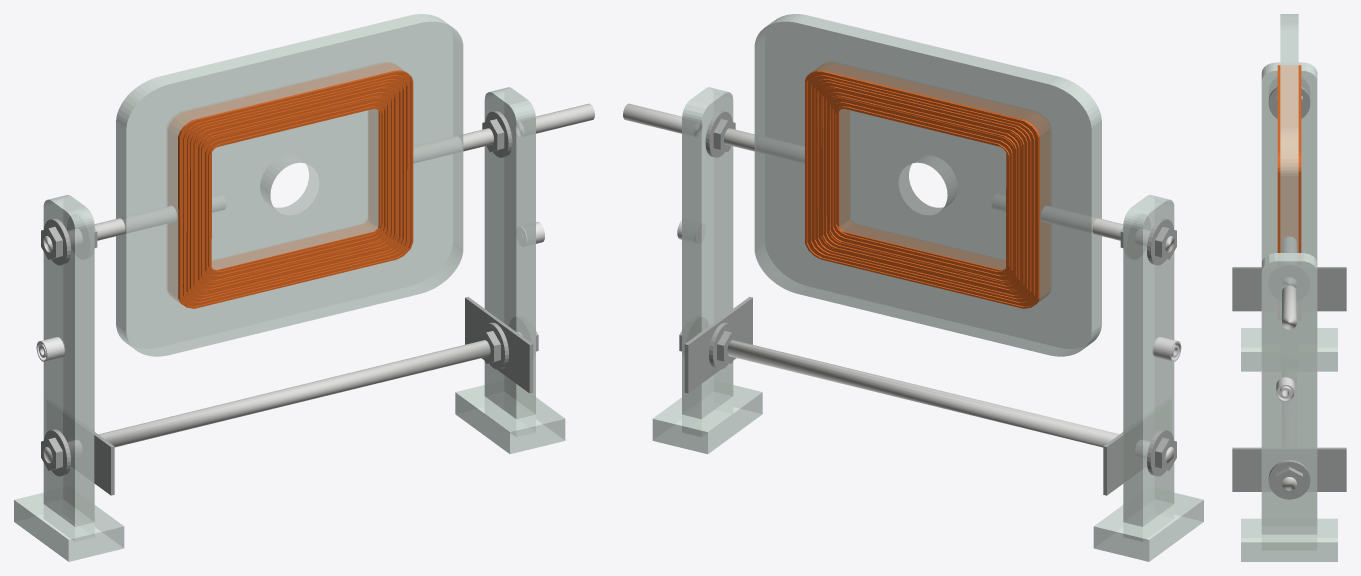
File: coil.glb
3 renders of one model, left to right at view 1: azimuth 30°, elevation 25°; view 2: azimuth 150°, elevation 25°; view 3: azimuth 270°, elevation 25°, orthographic. The views are drawn at different scales.
Parts seen in each view (by area): view 1: frame.017, stand, axis, handle; view 2: frame.017, stand, axis, handle; view 3: stand, frame.017, handle, axis.
Boxes of the visible parts, bbox=[...] form: frame.017: bbox=[116, 14, 463, 356]; stand: bbox=[14, 87, 565, 561]; axis: bbox=[43, 128, 493, 252]; handle: bbox=[515, 103, 594, 136]; frame.017: bbox=[754, 14, 1101, 356]; stand: bbox=[652, 87, 1203, 561]; axis: bbox=[724, 128, 1174, 252]; handle: bbox=[623, 103, 702, 136]; stand: bbox=[1232, 62, 1346, 561]; frame.017: bbox=[1277, 14, 1301, 252]; handle: bbox=[1282, 285, 1296, 329]; axis: bbox=[1282, 237, 1296, 287].
Bounding box in the file's own units: 62.59 × 46.98 × 12.79.
